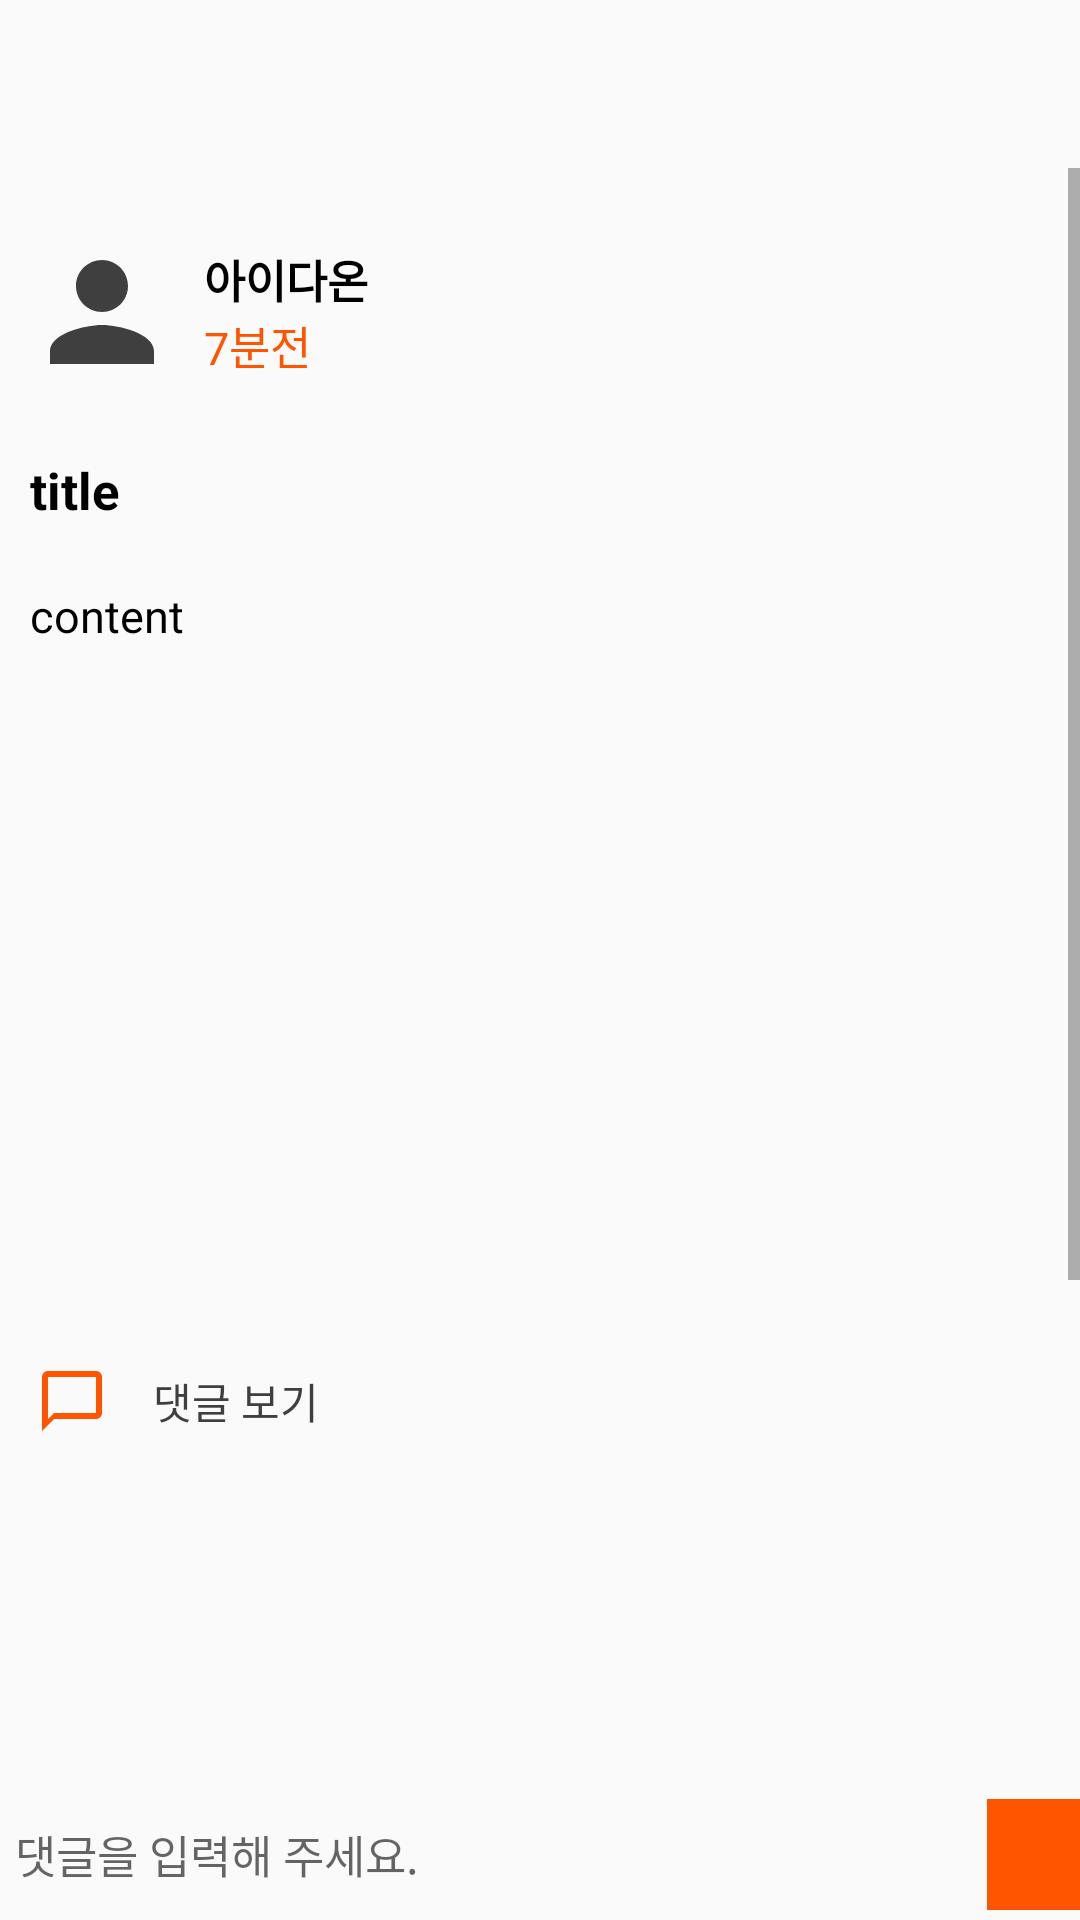

Where to tap for icons on this 1080×1920 app screen, as [x,y]:
person: [102,312]
